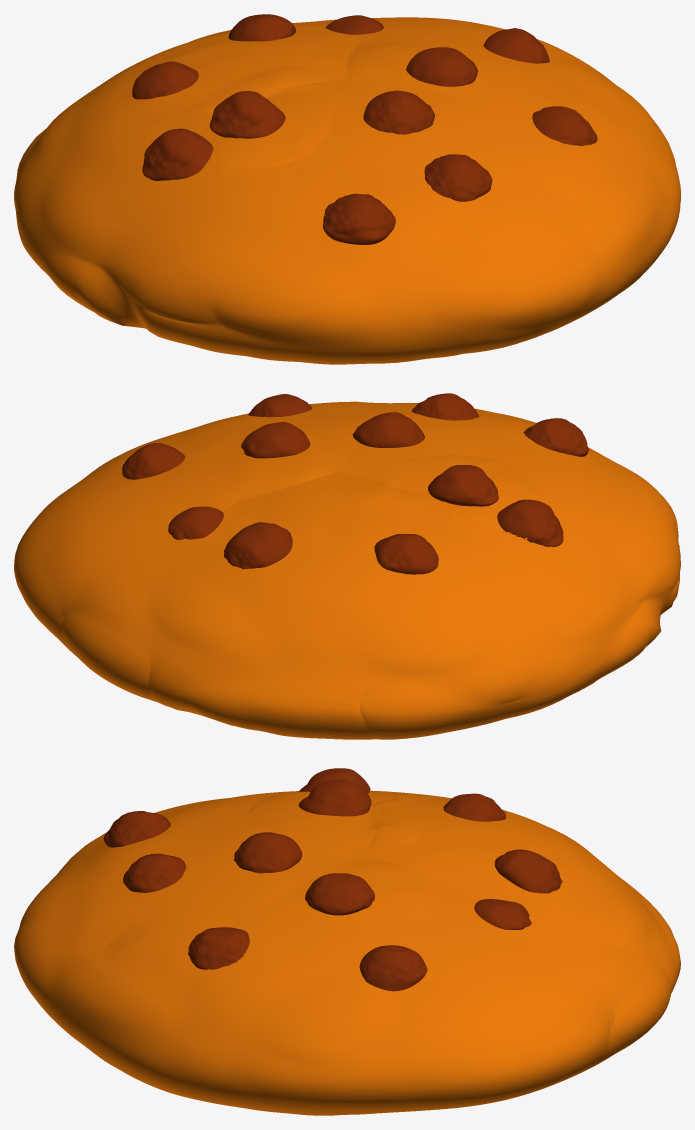
Rendered from cookie.glb.
The picture shows the model from 3 angles, top to bottom: view 1: azimuth 30°, elevation 25°; view 2: azimuth 150°, elevation 25°; view 3: azimuth 270°, elevation 25°; orthographic projection. The views are drawn at different scales.
Visible parts, largest first — view 1: Sphere; view 2: Sphere; view 3: Sphere.
Boxes of the visible parts, x1=… form: Sphere: x1=14, y1=14, x2=680, y2=364; Sphere: x1=14, y1=393, x2=680, y2=739; Sphere: x1=14, y1=768, x2=680, y2=1115.
Size of the model in its own units: 1.11 by 0.3595 by 1.14.
